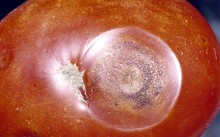damaged_tomato: (1, 1, 218, 136)
